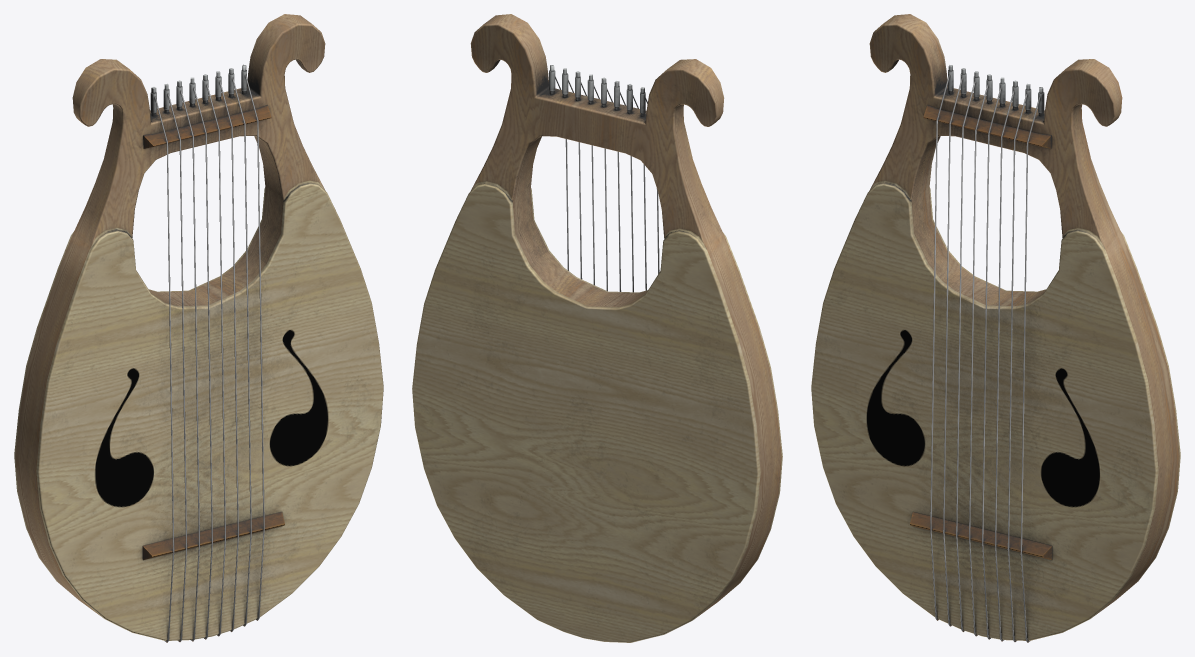
Rendered from lyre.glb.
3 renders of one model, left to right at view 1: azimuth 30°, elevation 25°; view 2: azimuth 150°, elevation 25°; view 3: azimuth 330°, elevation 25°, orthographic.
Parts seen in each view (by area): view 1: Lyre; view 2: Lyre; view 3: Lyre.
Part boxes in pixels (box(x1,y1,x2,y2)): Lyre: box(14, 14, 383, 642); Lyre: box(412, 14, 782, 642); Lyre: box(811, 14, 1180, 642).
Size of the model in its own units: 0.3082 by 0.4997 by 0.0532.
Materials: 1 (1 with a texture image).
